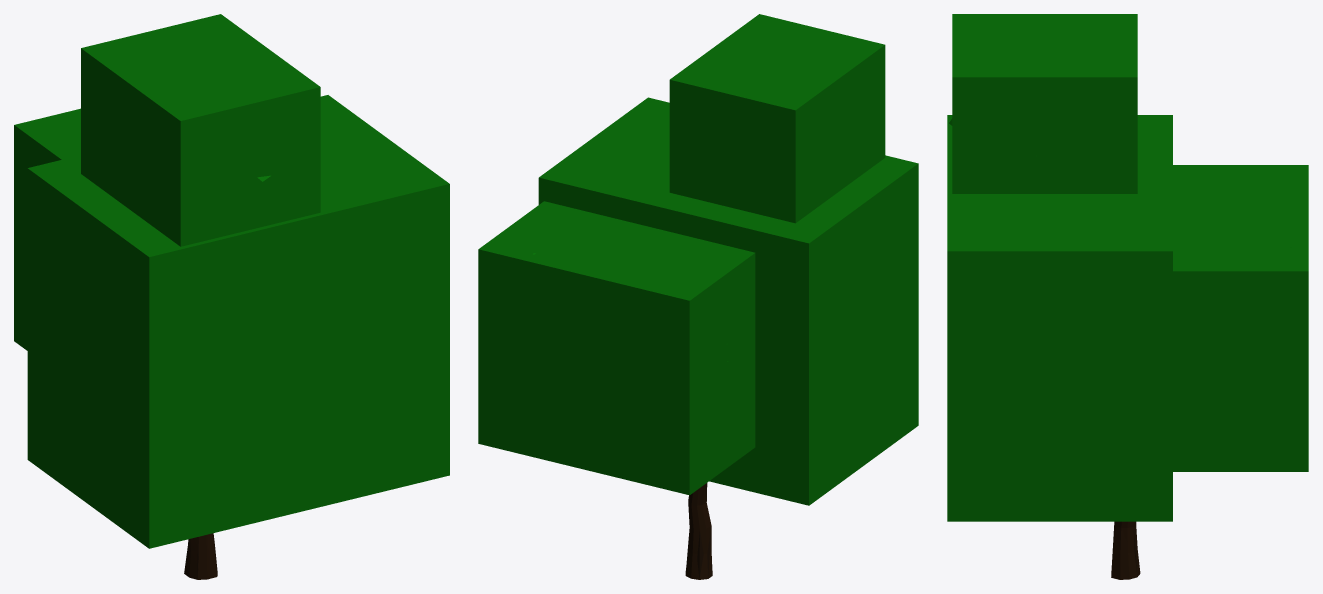
The model's file is Tree_04.fbx.
The picture shows the model from 3 angles, left to right: view 1: azimuth 30°, elevation 25°; view 2: azimuth 150°, elevation 25°; view 3: azimuth 270°, elevation 25°; orthographic projection. The views are drawn at different scales.
Parts seen in each view (by area): view 1: Tree_Abstract_04, Tree_Normal_04; view 2: Tree_Abstract_04, Tree_Normal_04; view 3: Tree_Abstract_04, Tree_Normal_04.
Boxes of the visible parts, x1,y1,x2,y2 form: Tree_Abstract_04: [14, 14, 449, 571]; Tree_Normal_04: [184, 175, 270, 579]; Tree_Abstract_04: [478, 14, 918, 579]; Tree_Normal_04: [533, 253, 727, 579]; Tree_Abstract_04: [947, 14, 1308, 574]; Tree_Normal_04: [949, 118, 1291, 579].
Size of what is drawn, in the model's own units: 339 by 592 by 381.
